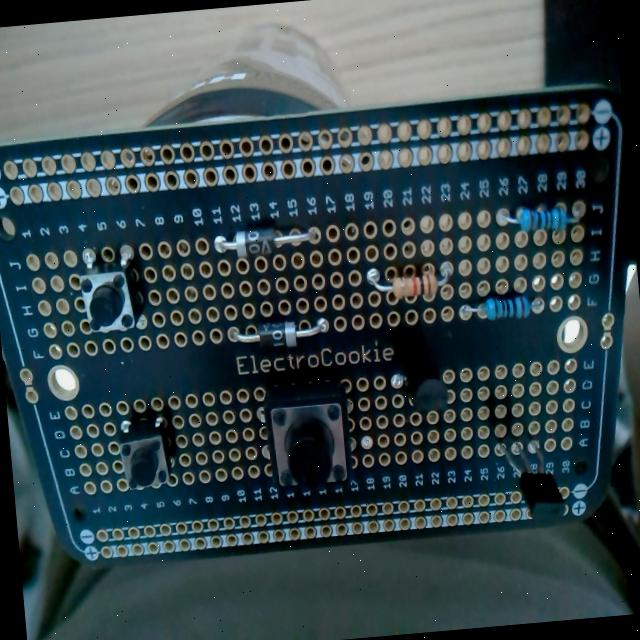diode: (210, 222, 318, 260), (226, 316, 328, 352)
resistor: (363, 256, 454, 302), (495, 200, 579, 240), (462, 293, 534, 324)
switch: (262, 379, 350, 493), (77, 259, 143, 335), (116, 415, 172, 492)
transistor: (492, 435, 574, 531), (392, 341, 461, 424)
